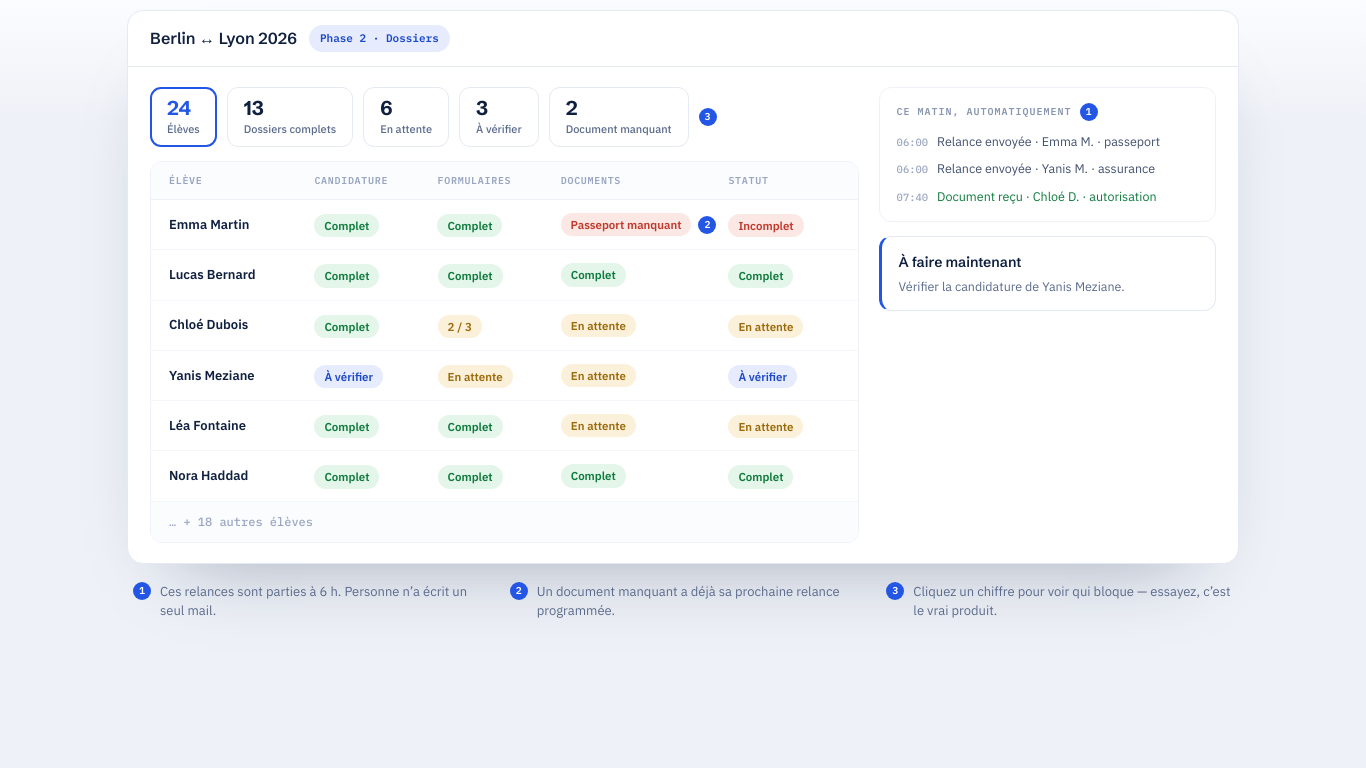
Scenario: ProductSlice funnel filter › clicking a funnel chip filters the table and recomputes the footer
Click the button "2 Document manquant" at (619, 117), box [549,86,689,147]
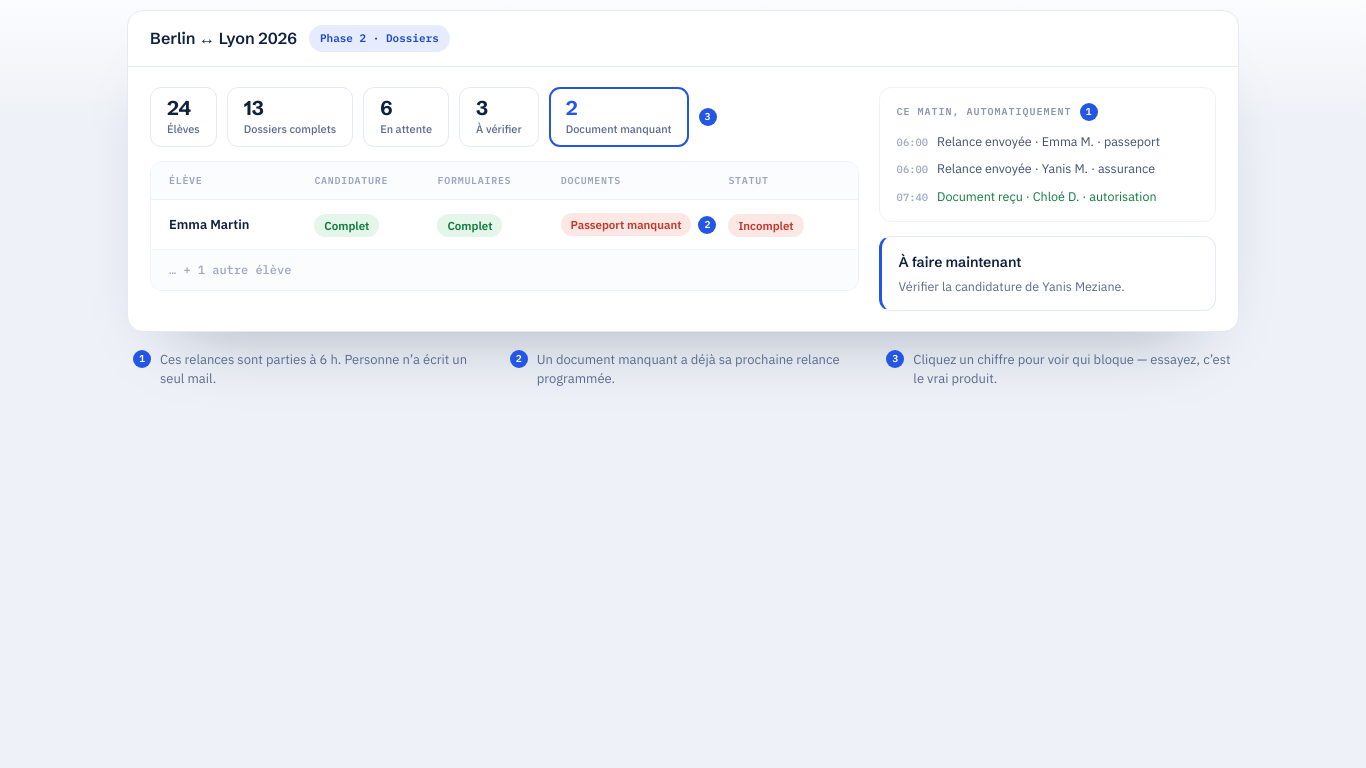
Check: the text "Emma Martin" is shown, box [169,216,249,233]
Check: the text "Lucas Bernard" is gone
Check: the text "… + 1 autre élève" is shown, box [151,250,858,290]
